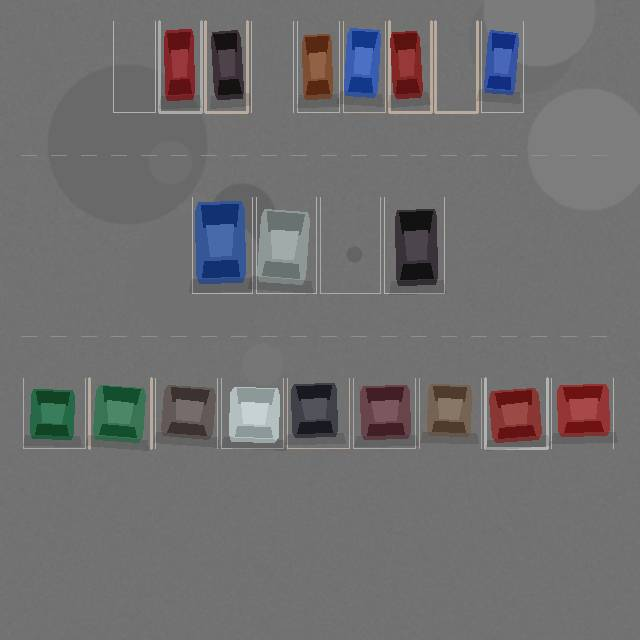space-empty: (320, 197, 380, 293), (113, 21, 155, 112), (251, 21, 293, 112), (435, 21, 477, 112)
space-occupied: (192, 197, 252, 293), (256, 197, 316, 293), (384, 197, 444, 293), (23, 378, 85, 448), (89, 378, 151, 448), (155, 378, 217, 448), (221, 378, 283, 448), (287, 378, 349, 448), (353, 378, 415, 448), (419, 378, 481, 448), (485, 378, 547, 448), (551, 378, 613, 448), (159, 21, 201, 112), (205, 21, 247, 112), (297, 21, 339, 112), (343, 21, 385, 112), (389, 21, 431, 112), (481, 21, 523, 112)
